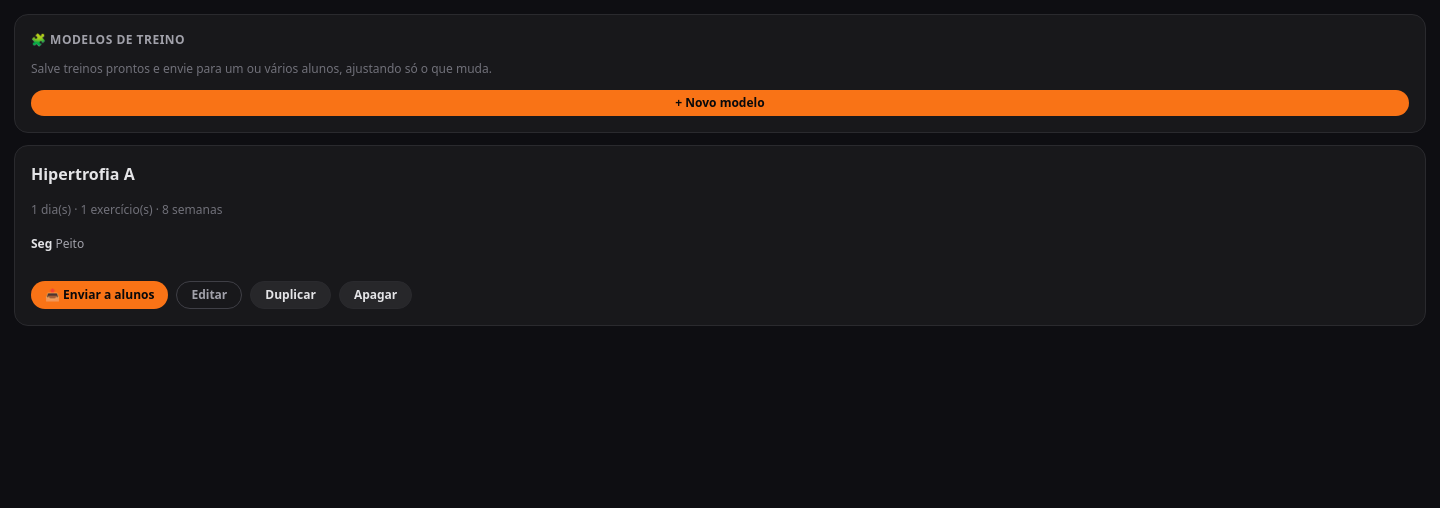
it: TemplatesPage › erro do servidor aparece na própria área de envio
Expected: the text "Hipertrofia A" is shown, 31,162 -> 135,186
Click the button "📤 Enviar a alunos".
click(100, 295)  # box 31,281 -> 168,309
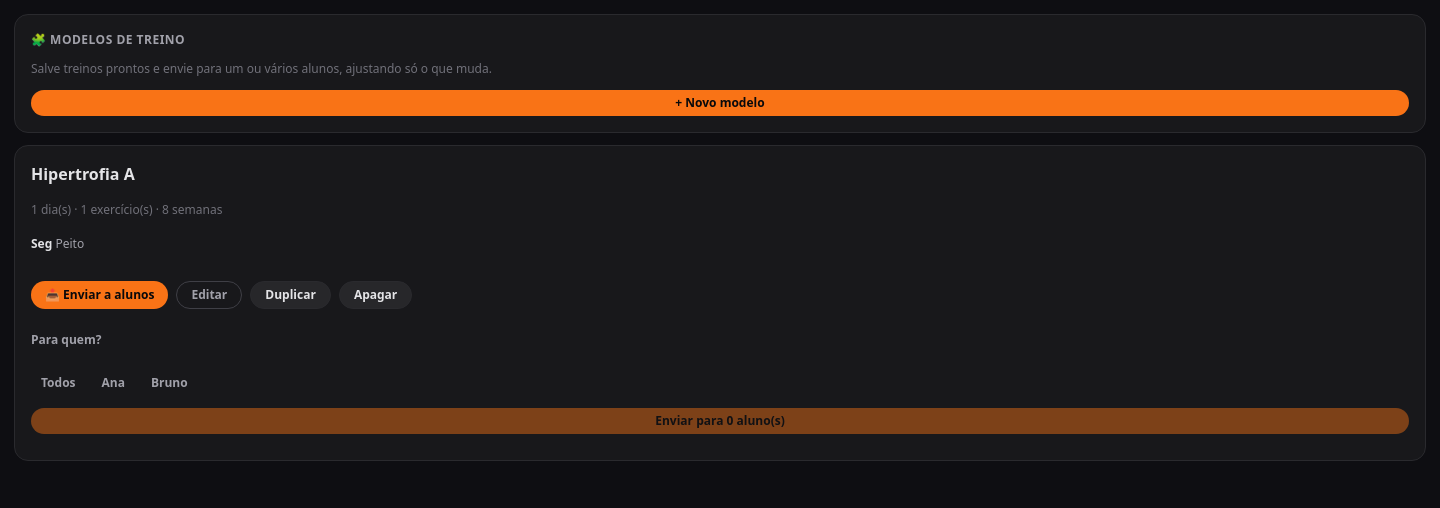
Click the button "Ana".
click(113, 382)  # box 92,369 -> 135,396
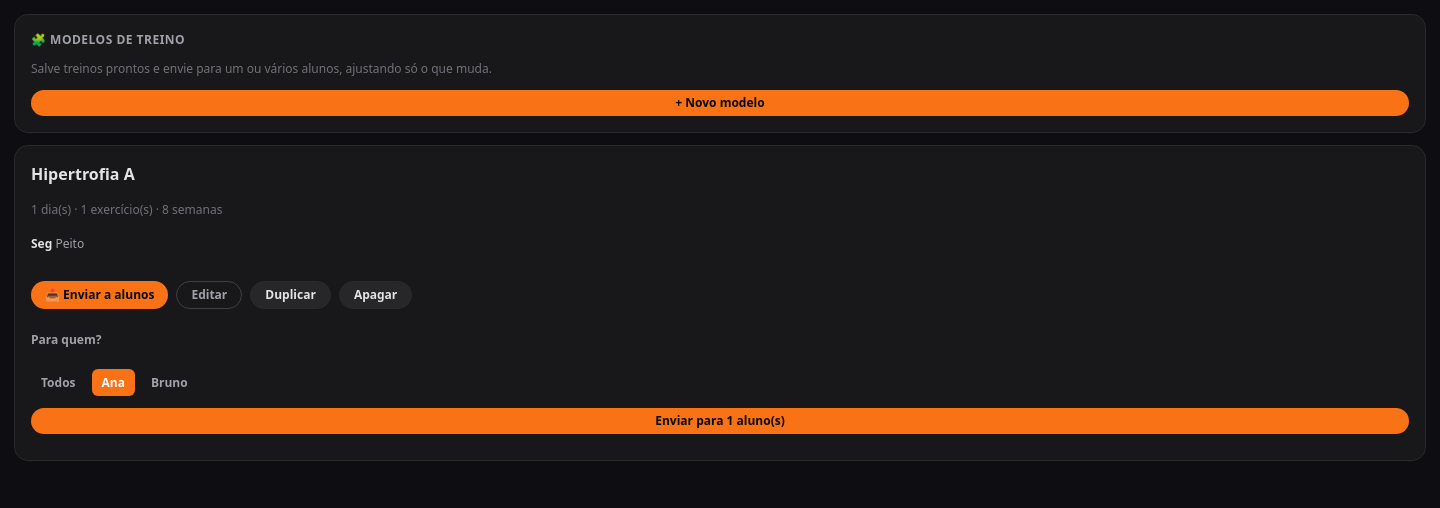
Click the button "Enviar para 1 aluno(s)".
click(720, 421)  # box 31,408 -> 1409,434
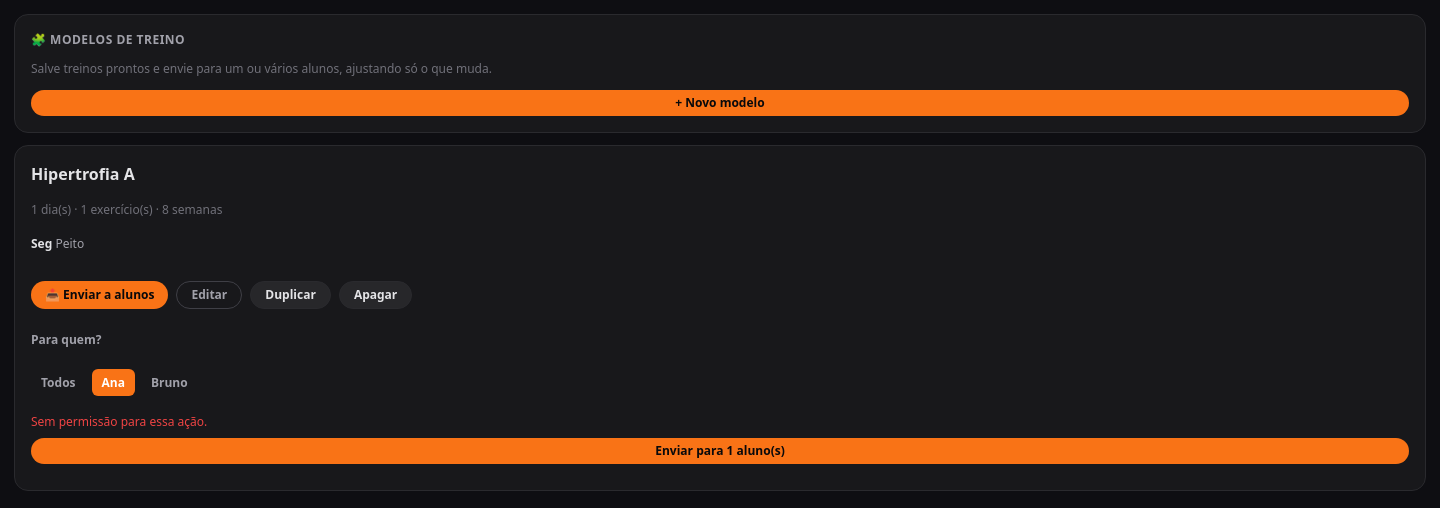
Expected: the message "Sem permissão para essa ação." is shown, 31,413 -> 207,430
